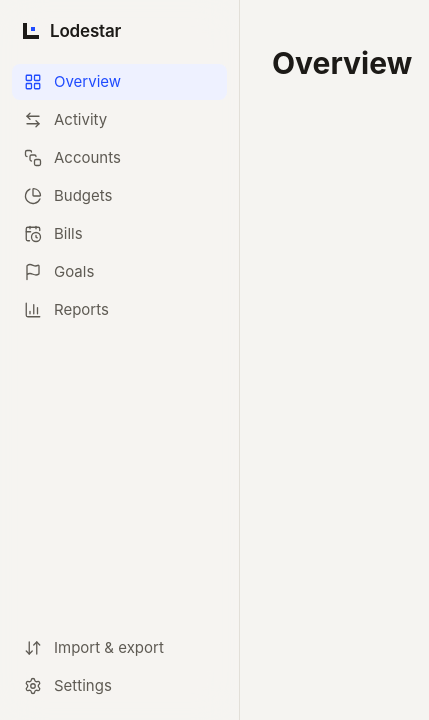
Test: the collapsible sidebar › leaves a click on a link to the link
Click the link "Activity": click(66, 120) [24, 110, 107, 129]
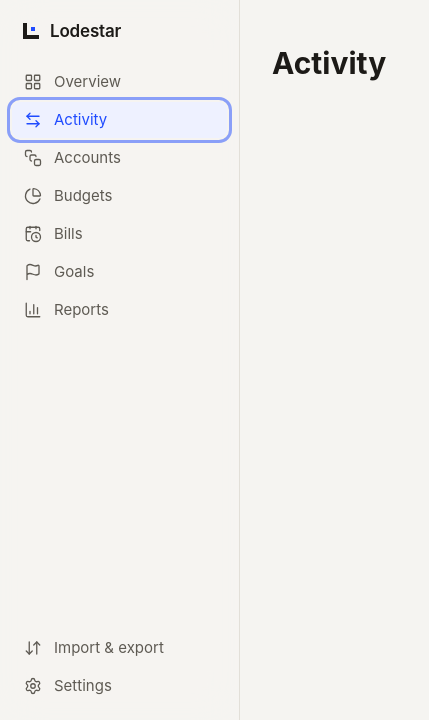
Result: the heading "Activity" is shown at [272, 45, 386, 81]
